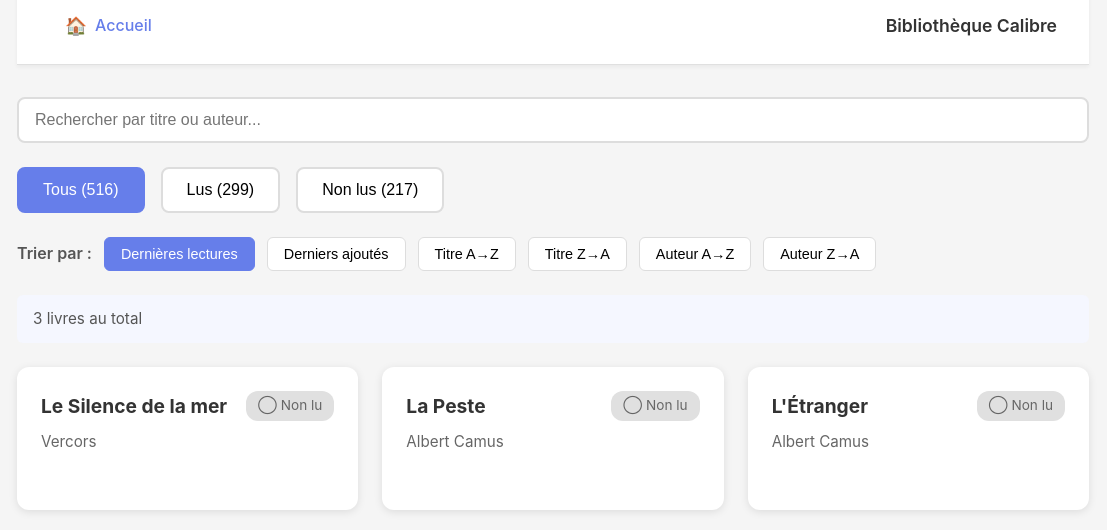
CalibreLibrary › Sorting and Filtering › should filter books by search text (author)
// Search for "camus"
Type "camus" into the field with test id "search-input" at [553, 120], box [17,97,1089,143]
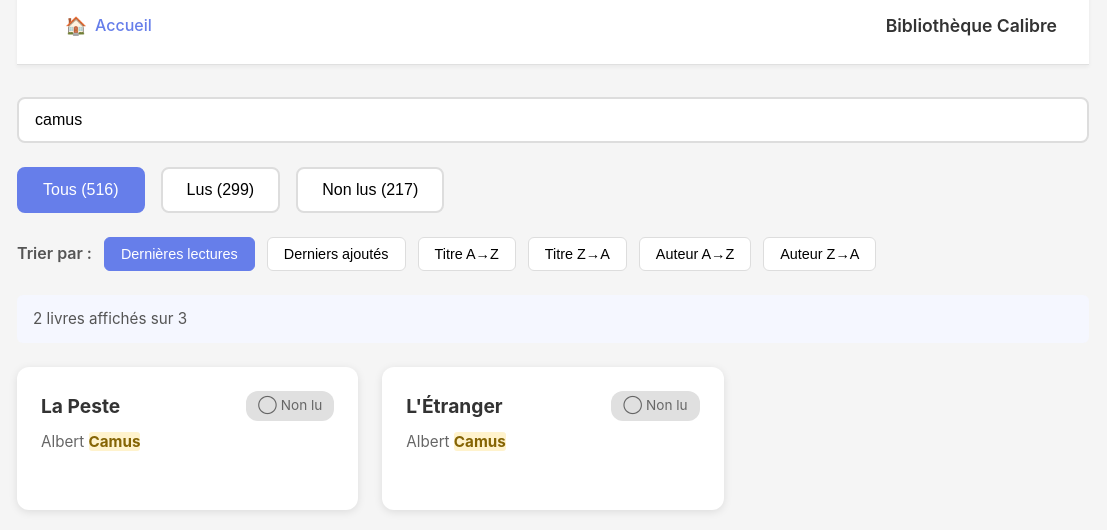
Expected: the text "2 livres affichés sur 3" is shown, [33,309,187,328]
